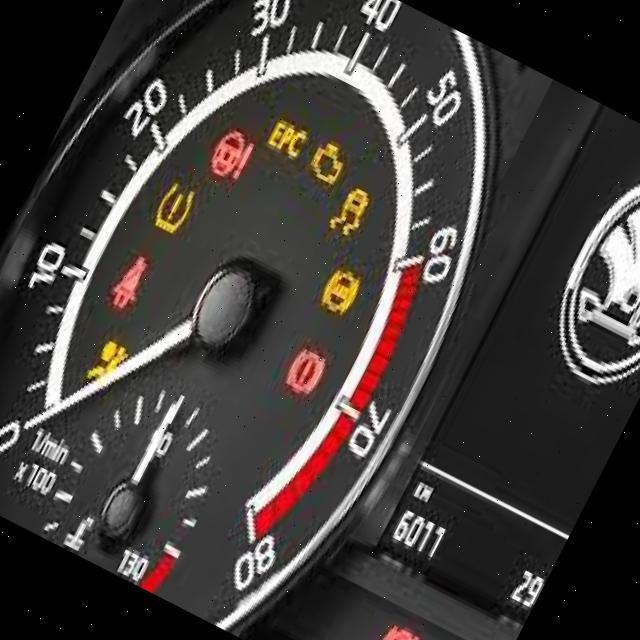Electronic Power Steering Warning: (210, 134, 255, 178)
Seat Belt: (109, 258, 149, 308)
